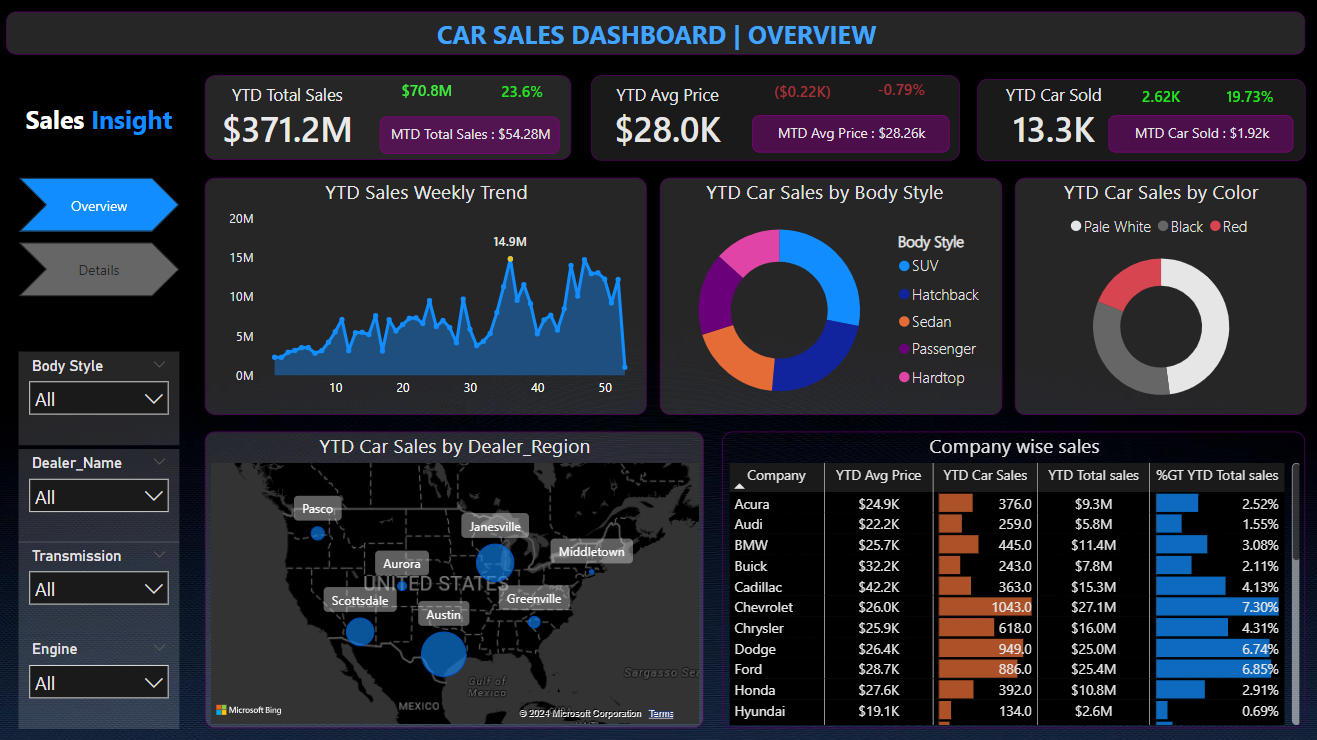

What the dashboard file says about the page in this screenshot:
{"tool":"powerbi","page":{"name":"Overview","canvas":[1280,720],"ordinal":0},"visuals":[{"type":"card","title":"YTD Total Sales","fields":{"Values":["car_data.YTD  Total sales"]},"box":[201.4,80.8,159.2,68.7],"z":0},{"type":"card","title":"YOY Sales Difference","fields":{"Values":["car_data.Sales Difference"]},"box":[370.3,74.8,91.7,31.4],"z":1000},{"type":"shape","box":[201.2,73.8,353.8,81.2],"z":2000},{"type":"card","title":"YOY Sales Difference","fields":{"Values":["car_data.YOY Sales Growth"]},"box":[461.9,76,91.7,31.4],"z":3000},{"type":"card","fields":{"Values":["car_data.MTD KPI"]},"box":[370.3,113.4,173.7,36.2],"z":4000},{"type":"shape","box":[573.8,73.8,356.2,82.5],"z":5000},{"type":"shape","box":[946.7,77.2,317.2,79.6],"z":6000},{"type":"card","title":"YTD Avg Price","fields":{"Values":["car_data.YTD Avg Price"]},"box":[573.8,81.2,147.5,68.8],"z":7000},{"type":"card","title":"YOY Sales Difference","fields":{"Values":["car_data.Avg Price Diff"]},"box":[732.5,76.2,92.5,31.2],"z":8000},{"type":"card","fields":{"Values":["car_data.MTD Avg Price KPI"]},"box":[730,112.5,190,36.2],"z":9000},{"type":"card","title":"YOY Sales Difference","fields":{"Values":["car_data.YOY Avg Price Growth"]},"box":[827.5,73.8,92.5,31.2],"z":10000},{"type":"card","title":"YTD Car Sold","fields":{"Values":["car_data.YTD Car Sales"]},"box":[946.2,81.2,147.5,68.8],"z":11000},{"type":"card","title":"YOY Sales Difference","fields":{"Values":["car_data.Car Sold Difference"]},"box":[1078.8,81.2,92.5,31.2],"z":12000},{"type":"card","title":"YOY Sales Difference","fields":{"Values":["car_data.YOY Car Sold Growth"]},"box":[1163.8,81.2,92.5,31.2],"z":13000},{"type":"card","fields":{"Values":["car_data.MTD Car Sold KPI"]},"box":[1073.8,112.5,178.8,36.2],"z":14000},{"type":"areaChart","title":"YTD Sales Weekly Trend","fields":{"Y":["Sum(car_data.Price ($))","Calendar Table.Max Point on area chart"],"Category":["Calendar Table.Week"]},"box":[201.2,172.5,426.2,228.8],"z":15000},{"type":"donutChart","fields":{"Category":["car_data.Body Style"],"Y":["car_data.YTD Car Sales"]},"box":[640,172.5,330,228.8],"z":16000},{"type":"donutChart","fields":{"Y":["car_data.YTD Car Sales"],"Category":["car_data.Color"]},"box":[982.5,172.5,281.2,228.8],"z":17000},{"type":"map","fields":{"Category":["car_data.Dealer_Region"],"Size":["car_data.YTD Car Sales"]},"box":[201.2,417.5,481.2,286.2],"z":18000},{"type":"tableEx","title":"Company wise sales","fields":{"Values":["car_data.Company","car_data.YTD Avg Price","car_data.YTD Car Sales","car_data.YTD  Total sales1","car_data.YTD  Total sales"]},"box":[701.2,417.5,562.5,286.2],"z":19000},{"type":"textbox","box":[10,12.5,1253.8,41.2],"z":20000},{"type":"slicer","fields":{"Values":["car_data.Body Style"]},"box":[21.2,340,155,90],"z":21000},{"type":"slicer","fields":{"Values":["car_data.Dealer_Name"]},"box":[21.2,433.8,155,90],"z":22000},{"type":"slicer","fields":{"Values":["car_data.Transmission"]},"box":[21.2,523.8,155,90],"z":23000},{"type":"slicer","fields":{"Values":["car_data.Engine"]},"box":[21.2,613.8,155,90],"z":24000},{"type":"textbox","box":[21.2,95,155,62.5],"z":25000},{"type":"pageNavigator","box":[21.2,172.5,155,115],"z":26000}]}

Visuals, with their boxes in screenshot pixels (x1, y1, x2, y2), scaled from the page's 1280x720 canvas onto the 1317x740 screenshot:
"YTD Total Sales" card: left=207, top=83, right=371, bottom=154
"YOY Sales Difference" card: left=381, top=77, right=475, bottom=109
shape: left=207, top=76, right=571, bottom=159
"YOY Sales Difference" card: left=475, top=78, right=570, bottom=110
card - car_data.MTD KPI: left=381, top=117, right=560, bottom=154
shape: left=590, top=76, right=957, bottom=161
shape: left=974, top=79, right=1300, bottom=161
"YTD Avg Price" card: left=590, top=83, right=742, bottom=154
"YOY Sales Difference" card: left=754, top=78, right=849, bottom=110
card - car_data.MTD Avg Price KPI: left=751, top=116, right=947, bottom=153
"YOY Sales Difference" card: left=851, top=76, right=947, bottom=108
"YTD Car Sold" card: left=974, top=83, right=1125, bottom=154
"YOY Sales Difference" card: left=1110, top=83, right=1205, bottom=116
"YOY Sales Difference" card: left=1197, top=83, right=1293, bottom=116
card - car_data.MTD Car Sold KPI: left=1105, top=116, right=1289, bottom=153
"YTD Sales Weekly Trend" areaChart: left=207, top=177, right=646, bottom=412
donutChart - car_data.Body Style x car_data.YTD Car Sales: left=658, top=177, right=998, bottom=412
donutChart - car_data.YTD Car Sales x car_data.Color: left=1011, top=177, right=1300, bottom=412
map - car_data.Dealer_Region x car_data.YTD Car Sales: left=207, top=429, right=702, bottom=723
"Company wise sales" tableEx: left=721, top=429, right=1300, bottom=723
textbox: left=10, top=13, right=1300, bottom=55
slicer - car_data.Body Style: left=22, top=349, right=181, bottom=442
slicer - car_data.Dealer_Name: left=22, top=446, right=181, bottom=538
slicer - car_data.Transmission: left=22, top=538, right=181, bottom=631
slicer - car_data.Engine: left=22, top=631, right=181, bottom=723
textbox: left=22, top=98, right=181, bottom=162
pageNavigator: left=22, top=177, right=181, bottom=295
